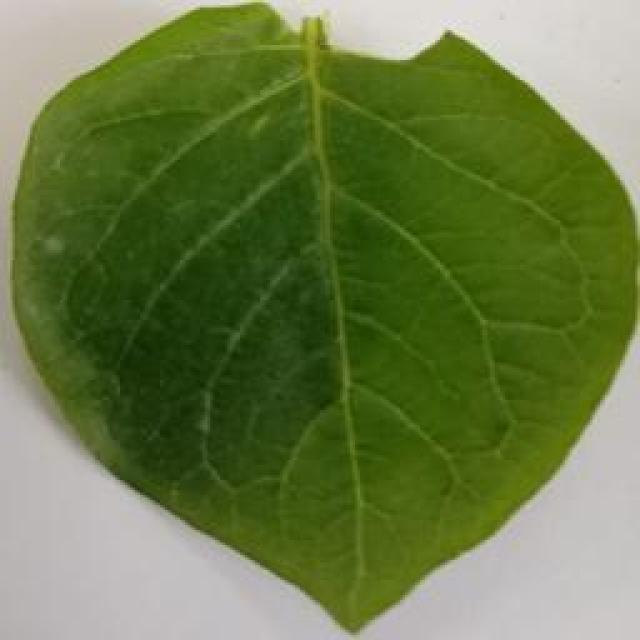Potato_Healthy: (10, 6, 626, 636)
